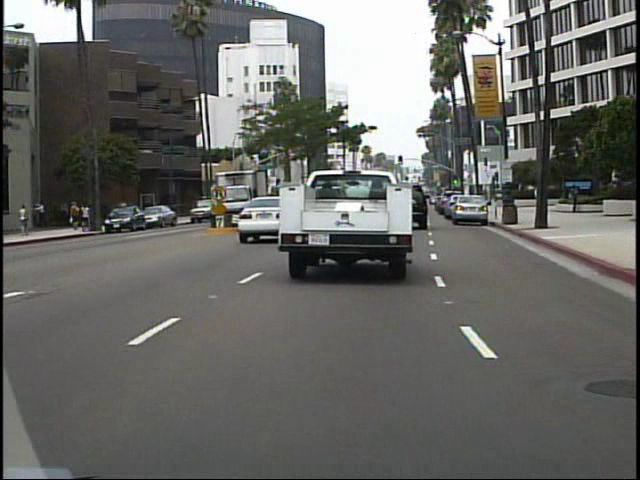person: (19, 200, 33, 238), (566, 181, 581, 215)
